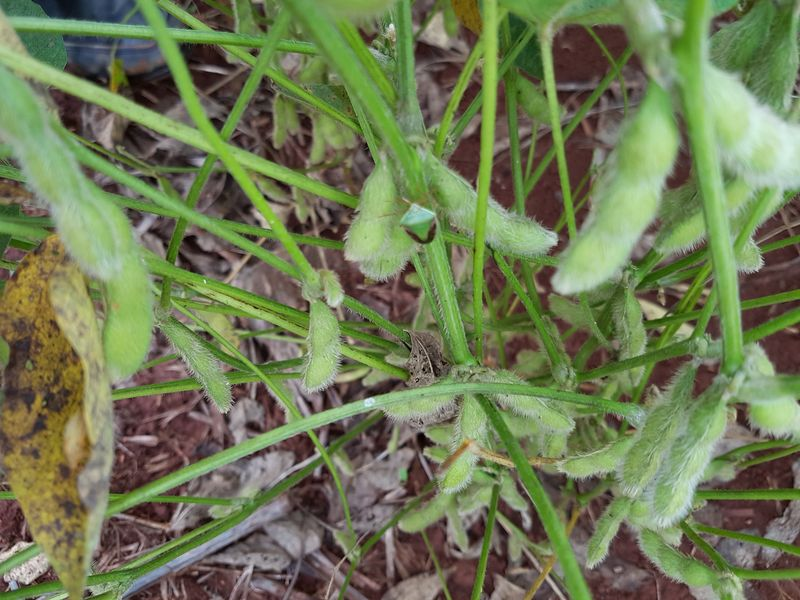Edessa_meditabunda: (382, 186, 453, 259)
